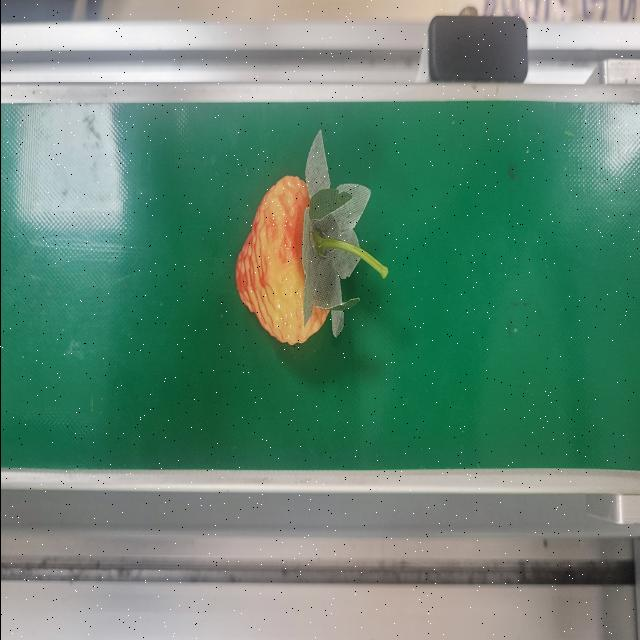Moldy Strawberry: (233, 173, 331, 348)
